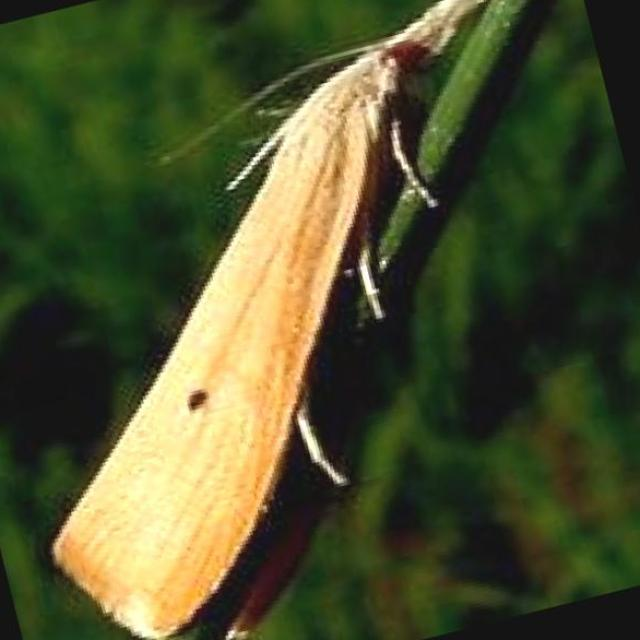stem borer: (52, 0, 485, 639)
